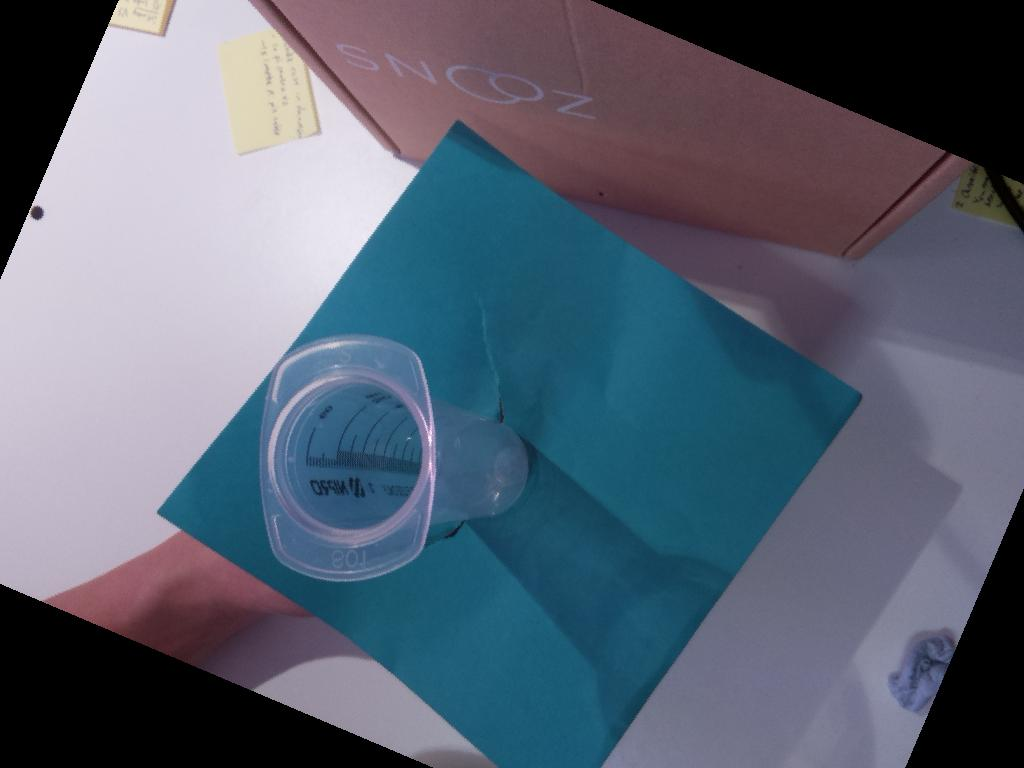clean: (258, 330, 438, 584)
